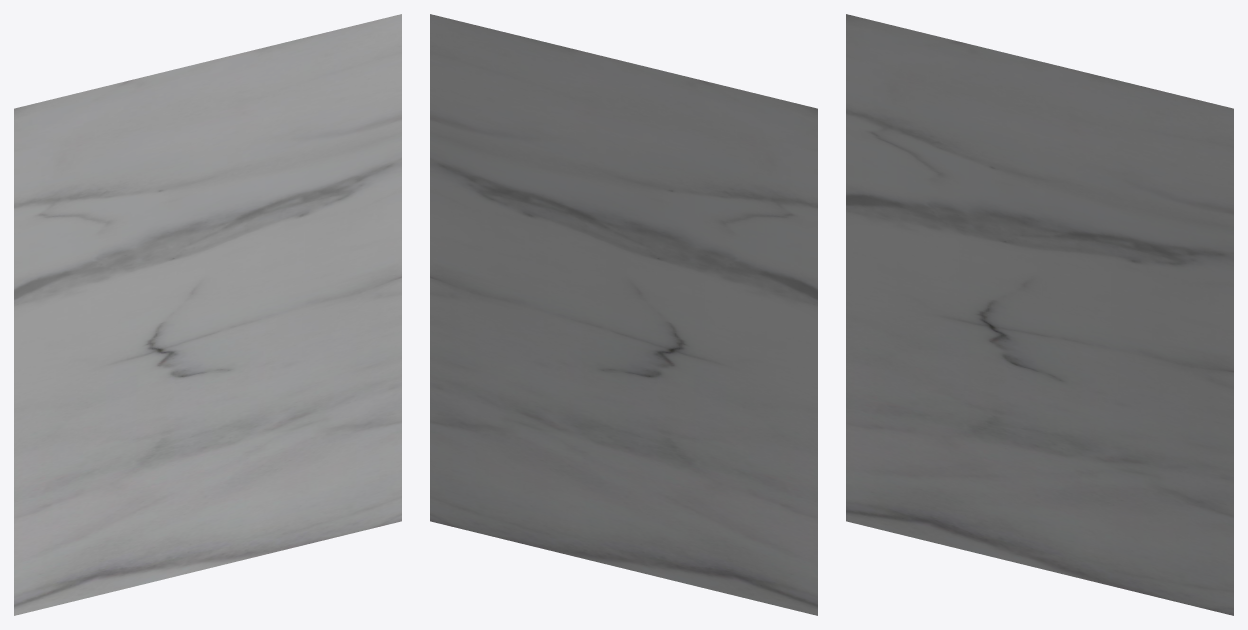
The model's file is wall.glb.
The picture shows the model from 3 angles, left to right: view 1: azimuth 30°, elevation 25°; view 2: azimuth 150°, elevation 25°; view 3: azimuth 330°, elevation 25°; orthographic projection.
Visible parts, largest first — view 1: skateboard_low; view 2: skateboard_low; view 3: skateboard_low.
Part boxes in pixels (box(x1,y1,x2,y2)): skateboard_low: box(14, 14, 401, 615); skateboard_low: box(430, 14, 817, 615); skateboard_low: box(846, 14, 1233, 615).
Size of the model in its own units: 2 by 2.5 by 0.
1 material, 1 textured.
